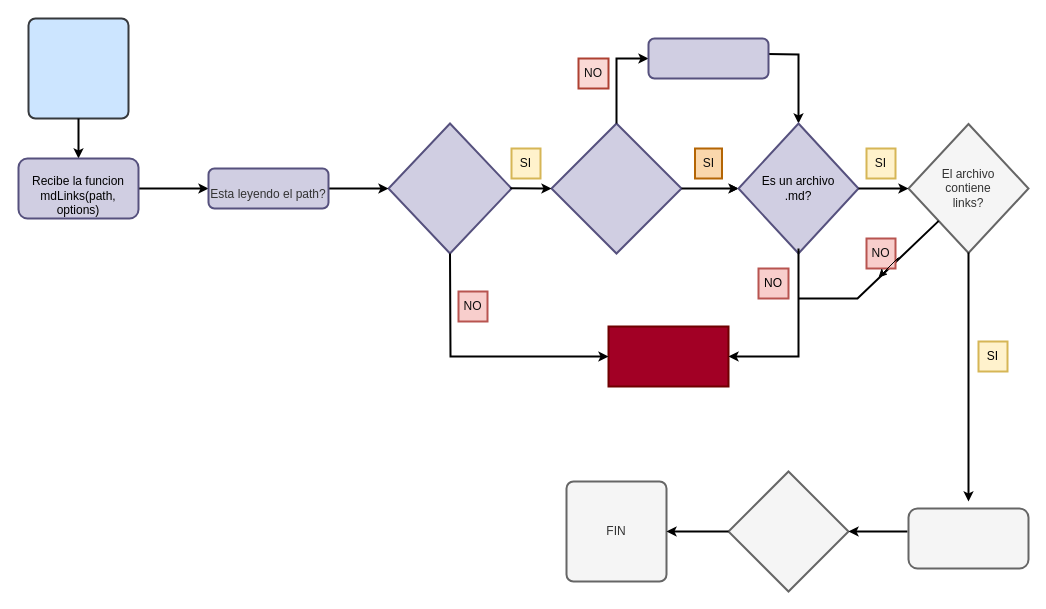
Image size: 1046x609. Some labels were removed from this diagram. The box of each missing label's shape, as (x1, y1, x2, y2) in pixels:
Cambiar de ruta relativa a absoluta: (647, 37, 769, 79)
El path existe?: (387, 122, 512, 254)
Es una ruta absoluta?: (550, 122, 682, 254)
INICIO: (27, 17, 129, 119)
Los links son válidos?: (727, 470, 849, 592)
mensaje de error (FIN): (607, 325, 729, 387)
Traer los links: (907, 507, 1029, 569)
